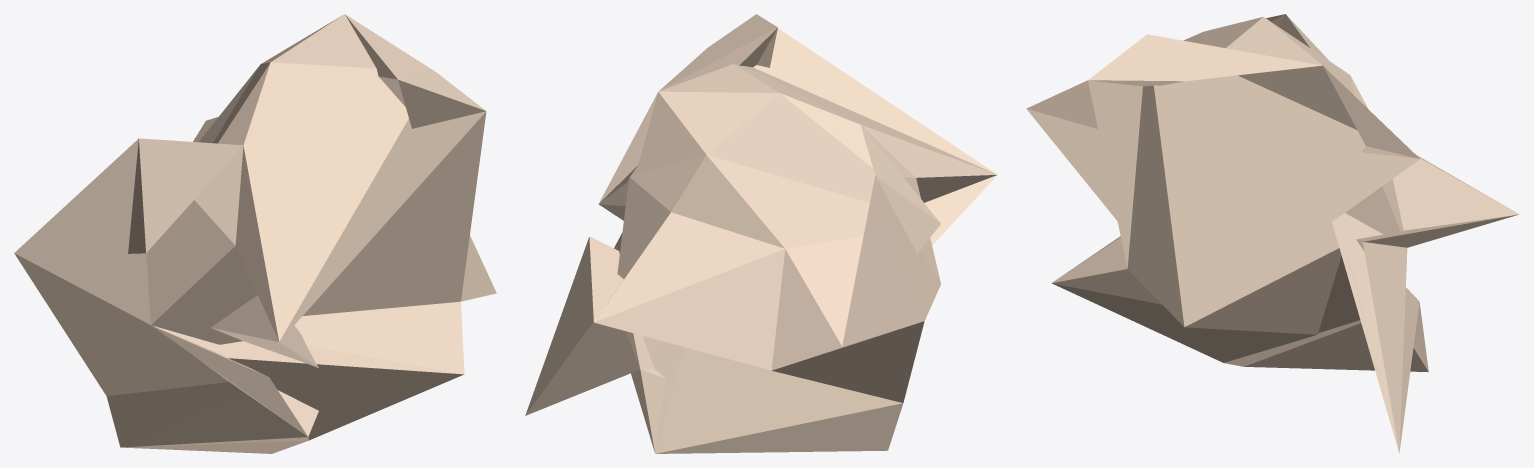
The model's file is PaperClump_02.glb.
3 views of the same model, side by side, from view 1: azimuth 30°, elevation 25°; view 2: azimuth 150°, elevation 25°; view 3: azimuth 270°, elevation 25° (orthographic). The views are drawn at different scales.
Parts seen in each view (by area): view 1: PaperClump_02; view 2: PaperClump_02; view 3: PaperClump_02.
Boxes of the visible parts, x1,y1,x2,y2 form: PaperClump_02: (14, 14, 496, 453); PaperClump_02: (525, 14, 997, 453); PaperClump_02: (1026, 14, 1519, 452).
Bounding box in the file's own units: 0.3594 × 0.3177 × 0.388.
1 material, 1 textured.
